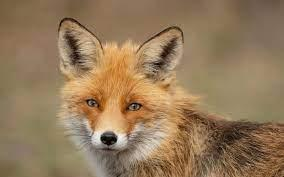fox: (41, 13, 281, 177)
